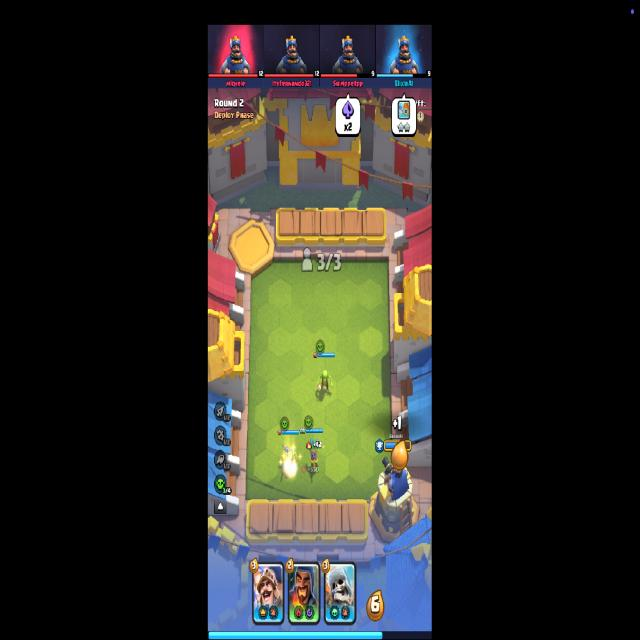card_giant_skeleton: (324, 560, 356, 626)
card_prince: (252, 562, 284, 624)
card_wizard: (288, 560, 320, 624)
dart_goblin: (306, 438, 321, 474)
goblin: (318, 368, 333, 394)
spear_goblin: (281, 441, 299, 475)
